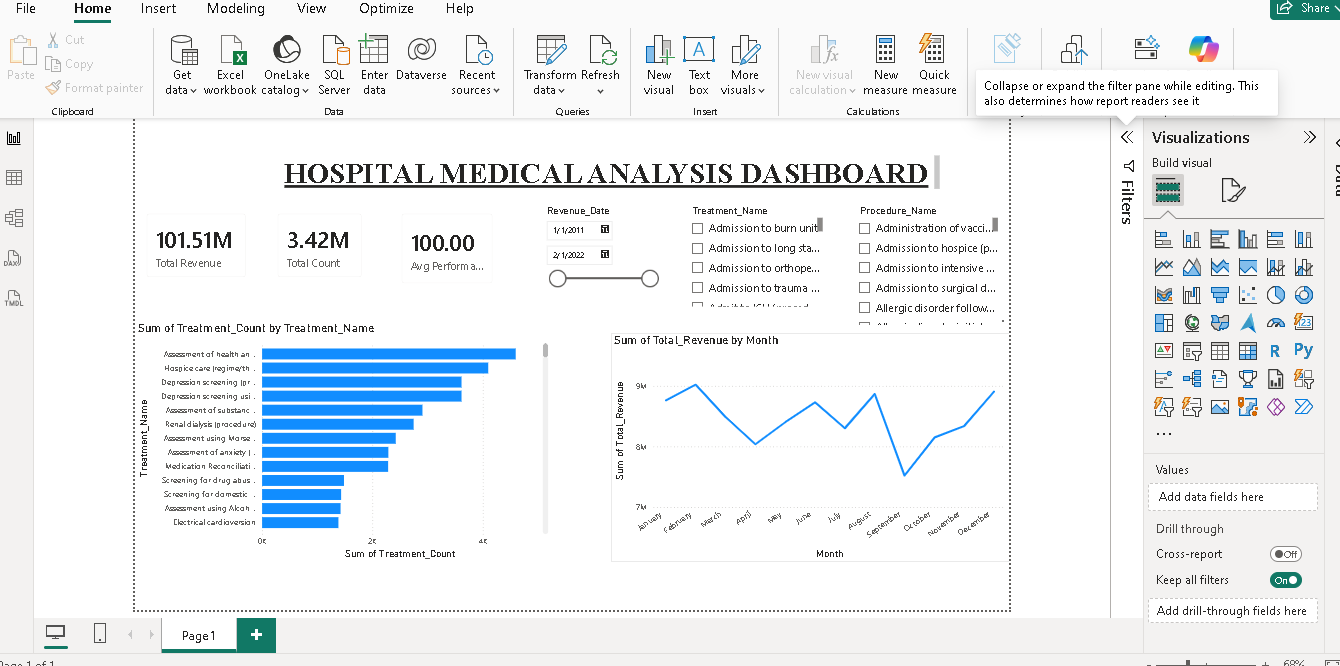

This screenshot's page, from the dashboard's own definition file:
{"tool":"powerbi","page":{"name":"Page 1","canvas":[1280,720],"ordinal":0},"visuals":[{"type":"cardVisual","fields":{"Data":["Sum(Revenue Summary.Total_Revenue)"]},"box":[0,122.6,179.7,127.7],"z":0},{"type":"cardVisual","fields":{"Data":["Sum(Patients summary.Total_Count)"]},"box":[191.5,122.6,157.9,127.7],"z":1000},{"type":"cardVisual","fields":{"Data":["Avg(Doctors Performance report.Performance_Score)"]},"box":[372.9,122.6,168,136.1],"z":2000},{"type":"clusteredBarChart","fields":{"Category":["Treatment Summary.Treatment_Name"],"Y":["Sum(Treatment Summary.Treatment_Count)"]},"box":[0,297.3,609.8,352.8],"z":3000},{"type":"lineChart","fields":{"Y":["Sum(Revenue Summary.Total_Revenue)"],"Category":["Revenue Summary.Revenue_Date.Variation.Date Hierarchy.Month"]},"box":[697.1,314.1,582.9,336],"z":4000},{"type":"slicer","fields":{"Values":["Revenue Summary.Revenue_Date"]},"box":[589.6,122.6,184.8,157.9],"z":5000},{"type":"slicer","fields":{"Values":["Treatment Summary.Treatment_Name"]},"box":[802.9,122.6,208.3,157.9],"z":6000},{"type":"slicer","fields":{"Values":["Doctors Performance report.Procedure_Name"]},"box":[1048.2,122.6,220.1,184.8],"z":7000},{"type":"textbox","box":[213.3,50.4,969.2,60.5],"z":8000}]}

Visuals, with their boxes on the page's 1280x720 design canvas (x1, y1, x2, y2). These are canvas units, not pixel positions in the 1340x666 screenshot, which may show the page scaled, cropped or inside an application window:
cardVisual - Sum(Revenue Summary.Total_Revenue): [0, 123, 180, 250]
cardVisual - Sum(Patients summary.Total_Count): [192, 123, 349, 250]
cardVisual - Avg(Doctors Performance report.Performance_Score): [373, 123, 541, 259]
clusteredBarChart - Treatment Summary.Treatment_Name x Sum(Treatment Summary.Treatment_Count): [0, 297, 610, 650]
lineChart - Sum(Revenue Summary.Total_Revenue) x Revenue Summary.Revenue_Date.Variation.Date Hierarchy.Month: [697, 314, 1280, 650]
slicer - Revenue Summary.Revenue_Date: [590, 123, 774, 280]
slicer - Treatment Summary.Treatment_Name: [803, 123, 1011, 280]
slicer - Doctors Performance report.Procedure_Name: [1048, 123, 1268, 307]
textbox: [213, 50, 1182, 111]
